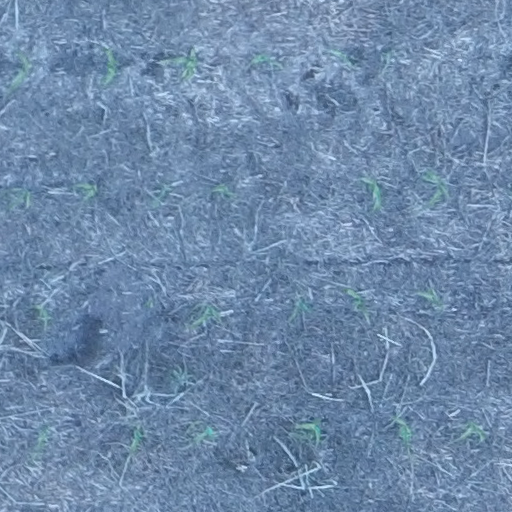planta: (156, 42, 203, 85), (3, 48, 35, 97), (23, 422, 54, 470), (419, 166, 452, 210), (181, 300, 225, 332), (355, 171, 386, 215), (339, 283, 373, 323), (122, 417, 149, 466), (290, 415, 327, 449), (182, 416, 220, 449), (388, 412, 417, 453), (451, 416, 490, 445), (97, 44, 121, 90), (413, 284, 447, 314), (247, 49, 287, 72), (286, 291, 314, 323), (28, 300, 55, 332), (70, 179, 101, 206), (147, 180, 174, 209), (328, 45, 359, 70), (207, 180, 239, 203), (312, 435, 317, 440)
